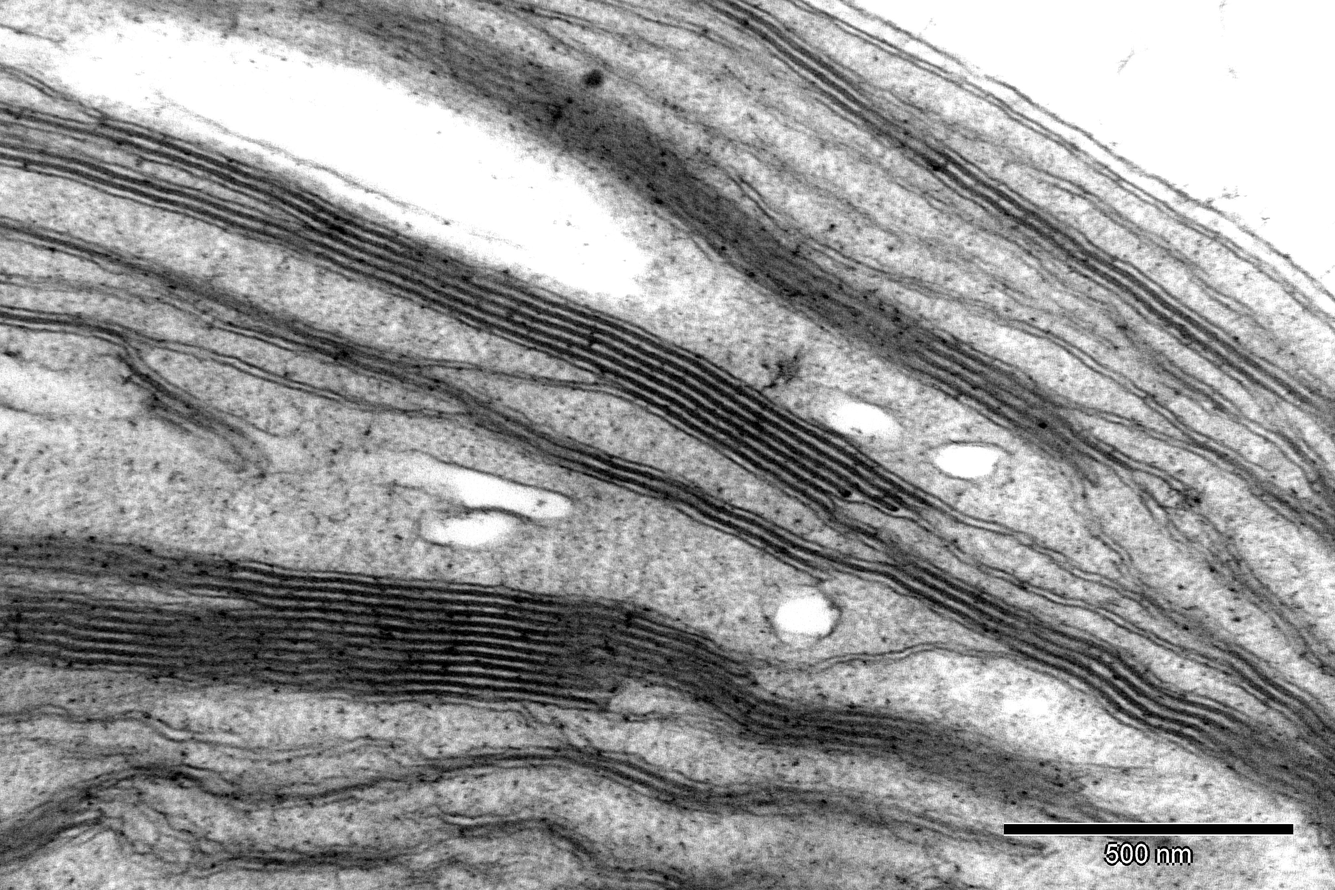granum: (0, 113, 919, 525), (282, 0, 1084, 467), (686, 0, 1273, 399), (0, 525, 766, 726), (880, 539, 1335, 866), (450, 380, 843, 585), (732, 691, 1146, 827), (579, 744, 1010, 860), (1170, 609, 1335, 763), (1, 766, 127, 878), (276, 312, 426, 398), (141, 374, 253, 459), (1286, 459, 1335, 566), (440, 744, 497, 782)
